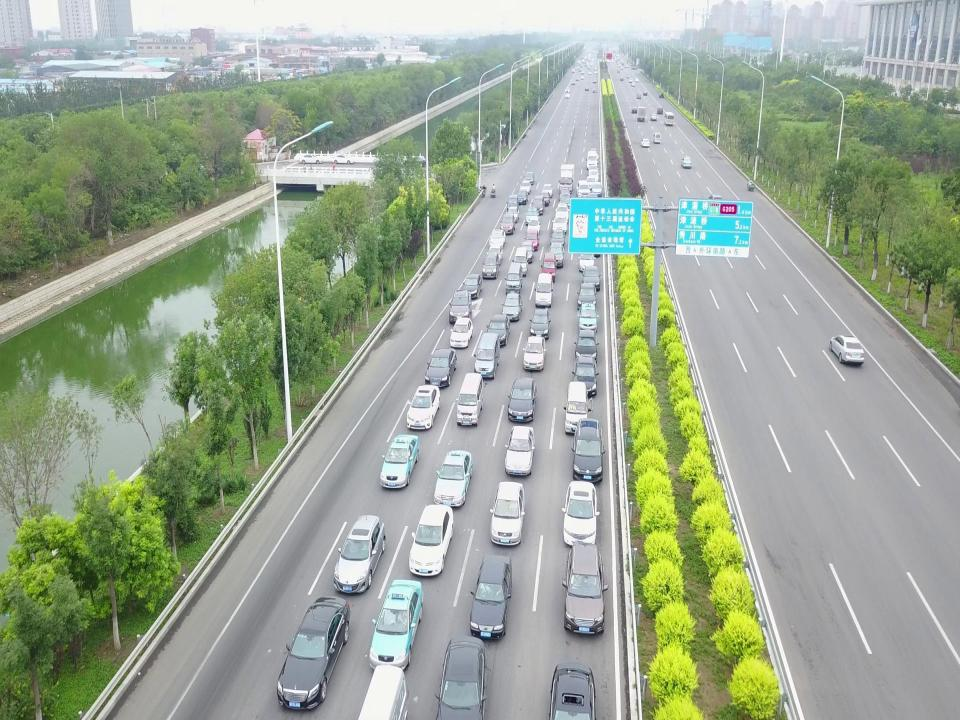bus: (665, 110, 675, 126), (625, 72, 631, 78), (584, 62, 588, 66)
car: (277, 597, 353, 708), (369, 579, 423, 671), (334, 515, 386, 592), (470, 554, 512, 638), (443, 634, 484, 720), (568, 544, 606, 633), (409, 505, 453, 578), (554, 662, 594, 720), (434, 450, 472, 508), (489, 481, 523, 545), (381, 433, 419, 489), (567, 481, 597, 546), (574, 419, 603, 481), (406, 381, 440, 432), (506, 424, 534, 476), (425, 349, 457, 386), (829, 334, 865, 364), (509, 378, 533, 417), (574, 355, 596, 396), (450, 287, 472, 321), (451, 318, 473, 348), (488, 315, 510, 344), (525, 336, 543, 371), (575, 329, 597, 357), (577, 303, 597, 331), (502, 293, 520, 322), (578, 281, 596, 306), (464, 273, 482, 298), (532, 310, 548, 338), (583, 265, 601, 289), (484, 250, 498, 278), (580, 250, 596, 271), (487, 244, 503, 265), (549, 241, 563, 265), (524, 228, 538, 251), (708, 194, 724, 214), (373, 154, 397, 167), (488, 229, 506, 246), (520, 241, 534, 262), (554, 201, 570, 219), (403, 155, 429, 166), (552, 214, 566, 234), (298, 154, 322, 164), (330, 155, 354, 165), (500, 215, 513, 233), (551, 228, 565, 243), (527, 208, 539, 225), (527, 220, 540, 234), (559, 185, 571, 200), (560, 192, 572, 207), (517, 189, 529, 204), (592, 181, 603, 196), (588, 192, 600, 205), (542, 182, 554, 195), (640, 136, 650, 149), (590, 169, 600, 182), (540, 191, 550, 204), (524, 170, 534, 183), (520, 181, 530, 192), (682, 157, 692, 167), (586, 176, 595, 187), (589, 164, 599, 173), (588, 148, 597, 156), (651, 113, 657, 121), (658, 91, 664, 98), (656, 108, 663, 114), (631, 105, 637, 112), (584, 86, 590, 92), (592, 88, 597, 94), (565, 93, 571, 98), (592, 77, 596, 83), (632, 81, 636, 87), (564, 88, 571, 91), (588, 70, 592, 75), (580, 75, 584, 80), (571, 68, 575, 73), (576, 76, 580, 81), (571, 82, 576, 86), (644, 90, 648, 95), (580, 70, 584, 74), (616, 70, 620, 74), (620, 77, 624, 81), (629, 78, 633, 82), (635, 76, 639, 80), (595, 71, 598, 74), (595, 66, 597, 70), (621, 68, 623, 70)
truck: (559, 164, 573, 192)
van: (357, 663, 409, 720), (456, 372, 484, 427), (474, 331, 501, 379), (565, 382, 589, 433), (535, 273, 553, 307), (511, 248, 528, 276), (507, 263, 521, 293), (541, 252, 555, 282), (531, 196, 545, 212), (576, 181, 590, 196), (586, 151, 598, 168), (506, 195, 518, 211), (636, 107, 647, 121), (653, 133, 662, 144), (636, 91, 642, 98)
